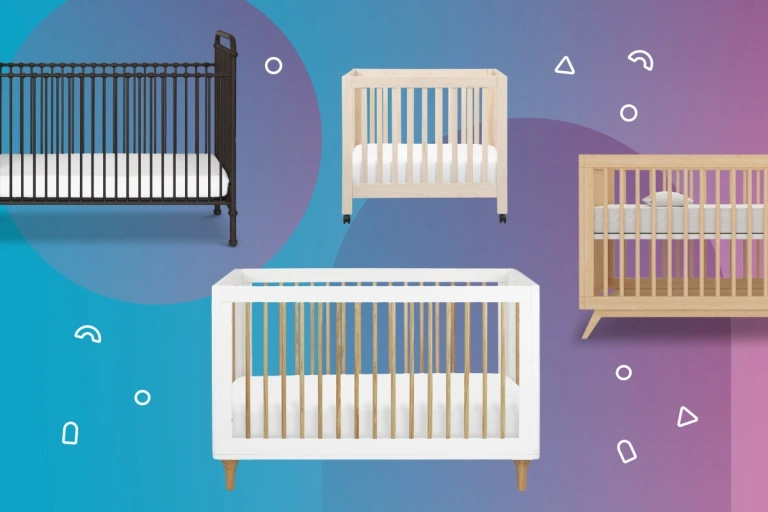crib: (212, 267, 539, 491), (0, 29, 238, 244), (579, 154, 768, 339), (341, 69, 508, 224)
